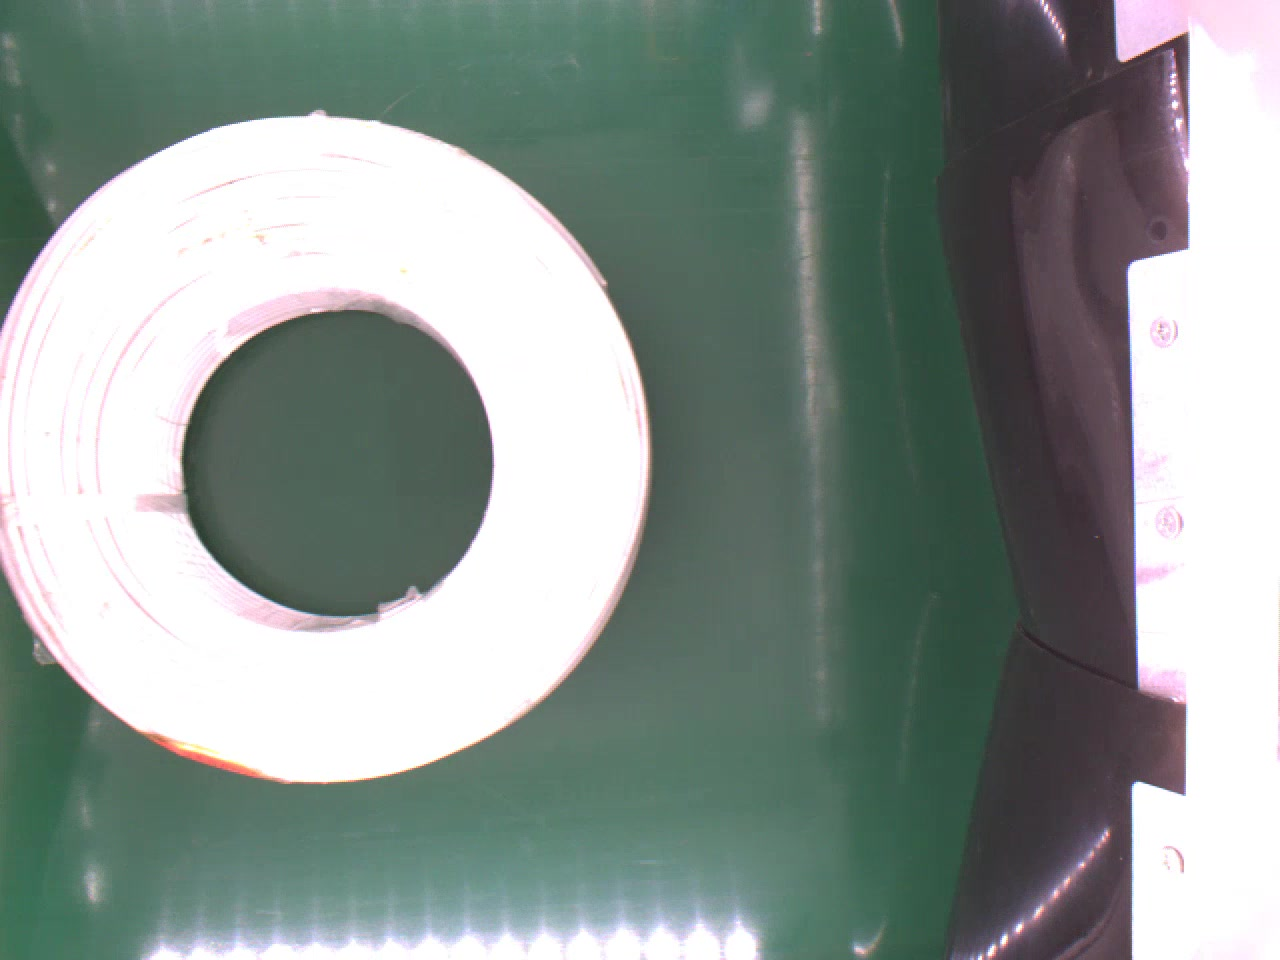white: (0, 110, 653, 795)
